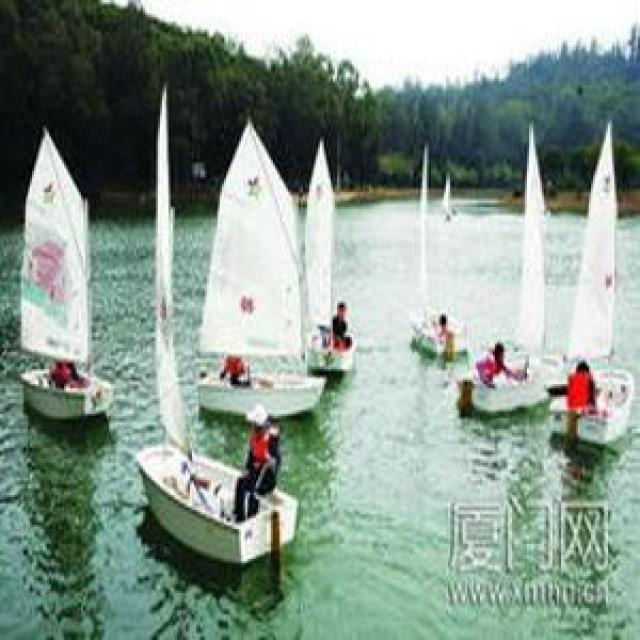sailboat: (130, 85, 304, 566), (200, 116, 326, 422), (552, 116, 640, 454), (19, 118, 118, 415), (467, 105, 556, 422), (396, 128, 461, 356)
